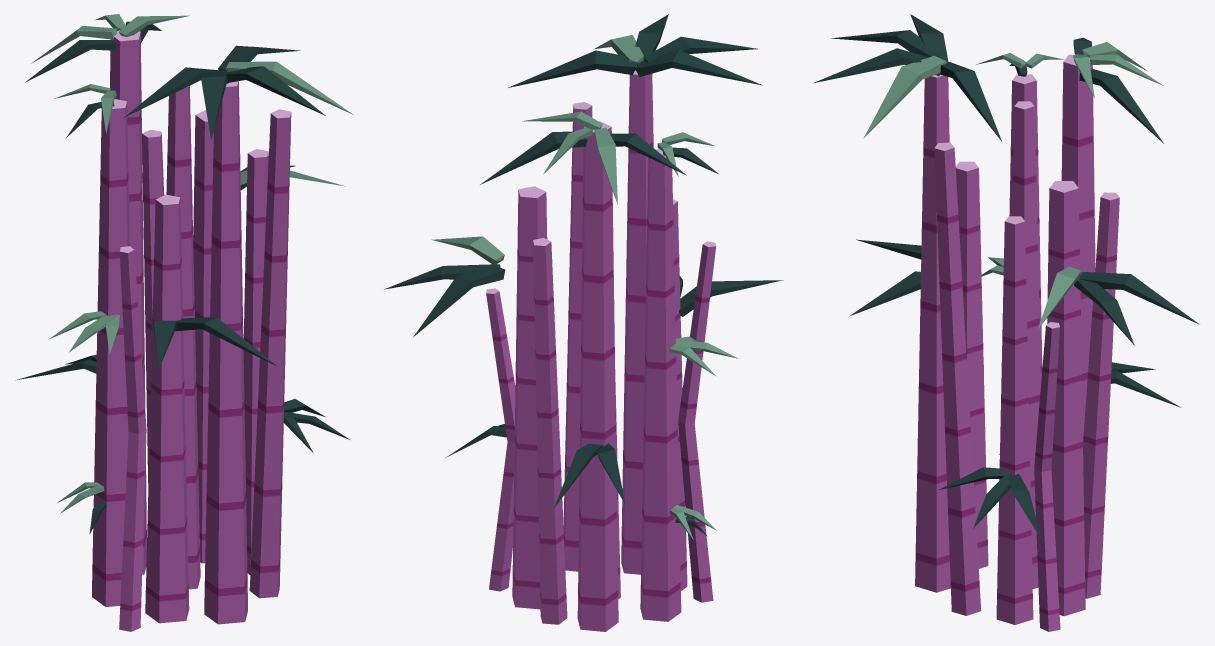
File: M_Bamboo.FBX
3 views of the same model, side by side, from view 1: azimuth 30°, elevation 25°; view 2: azimuth 150°, elevation 25°; view 3: azimuth 270°, elevation 25° (orthographic). The views are drawn at different scales.
Parts seen in each view (by area): view 1: Cylinder005, Pyramid007, Pyramid013; view 2: Cylinder005, Pyramid007, Pyramid013; view 3: Cylinder005, Pyramid007, Pyramid013.
Part boxes in pixels (<box>): Cylinder005: <box>92,30,291,631</box>; Pyramid007: <box>15,21,349,534</box>; Pyramid013: <box>31,14,353,513</box>; Cylinder005: <box>486,70,716,631</box>; Pyramid007: <box>384,14,783,536</box>; Pyramid013: <box>431,35,738,540</box>; Cylinder005: <box>915,54,1119,631</box>; Pyramid007: <box>813,14,1199,539</box>; Pyramid013: <box>863,42,1163,328</box>.
Size of the model in its own units: 194 by 341 by 223.
Materials: 3 (1 with a texture image).
